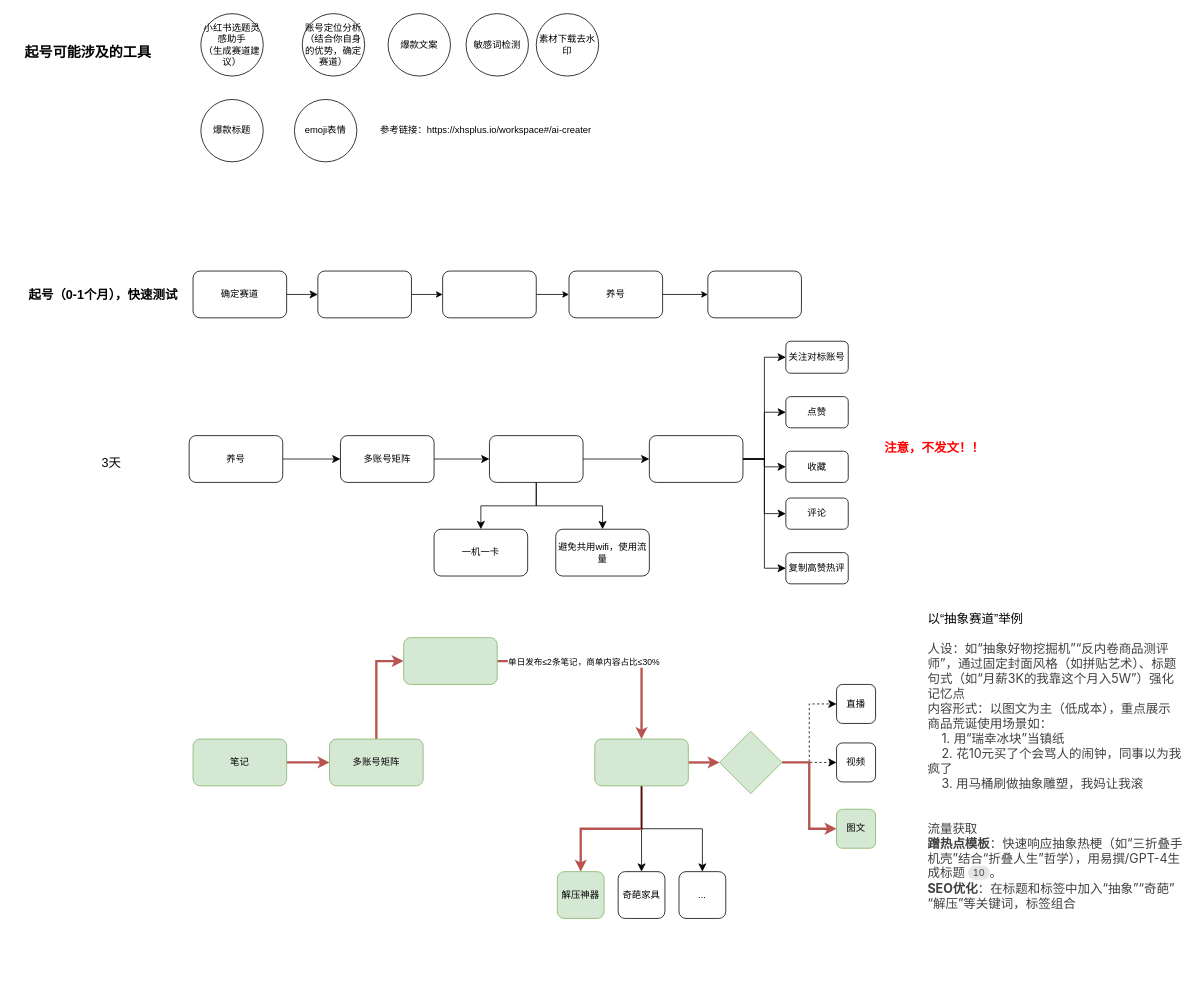
This 1197x994 diagram has some shape labels left out. The shapes that lost their labels are listed below. From the top down, each one's centre as x and y in pixels, then its label:
the point at 364,294: 小红书昵称生成器
the point at 489,294: 小红书账号简介生成
the point at 754,294: 发布笔记
the point at 536,458: 设备隔离
the point at 696,458: 模拟用户行为
the point at 450,660: 更新频率
the point at 641,762: 内容差异化测试
the point at 750,762: 内容形式？
